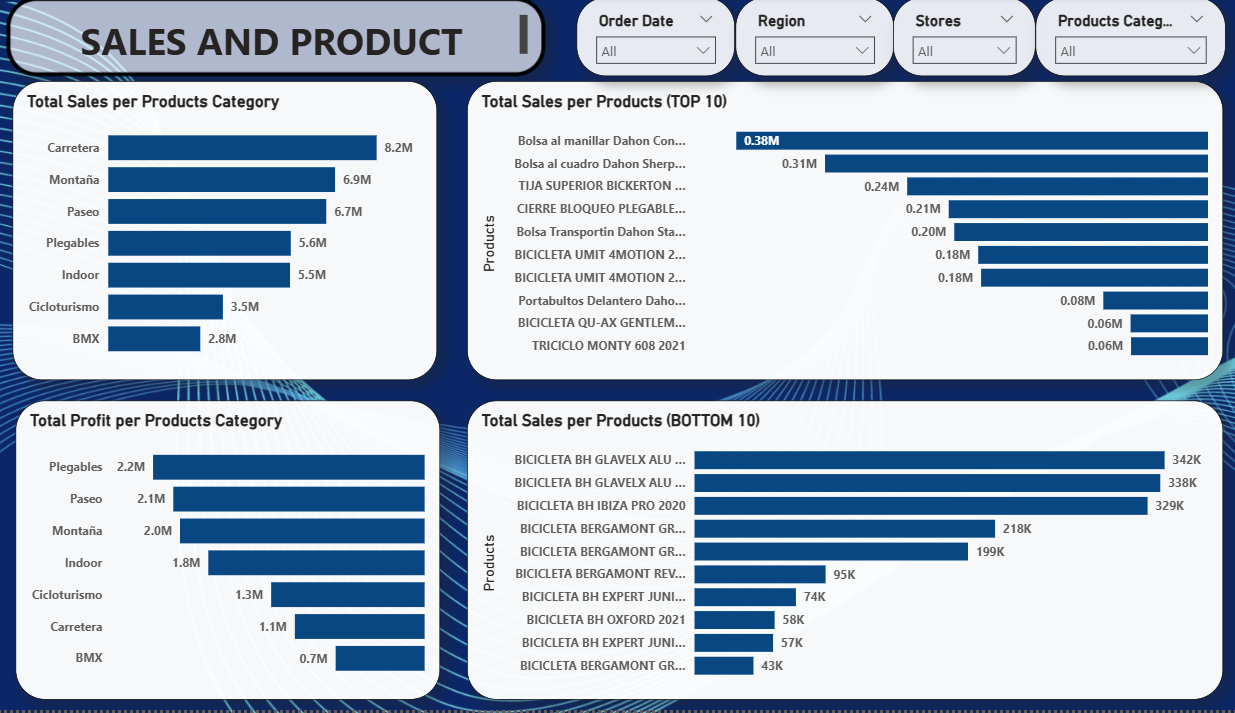

The page's visual inventory and layout, read from the dashboard file:
{"tool":"powerbi","page":{"name":"Sales & Product","canvas":[1280,720],"ordinal":1},"visuals":[{"type":"textbox","box":[16,0,544,80],"z":0},{"type":"barChart","title":"Total Sales per Products Category","fields":{"Category":["Products.Products Category"],"Y":["Sales._Total Sales"]},"box":[23.3,85,428.3,301.7],"z":1000},{"type":"barChart","title":"Total Profit per Products Category","fields":{"Category":["Products.Products Category"],"Y":["Sales._Total Profit"]},"box":[25,406.7,428.3,301.7],"z":2000},{"type":"barChart","title":"Total Sales per Products (TOP 10)","fields":{"Category":["Products.Products"],"Y":["Sales._Total Sales"]},"box":[481.7,85,763.3,301.7],"z":3000},{"type":"barChart","title":"Total Sales per Products (BOTTOM 10)","fields":{"Category":["Products.Products"],"Y":["Sales._Total Sales"]},"box":[481.7,406.7,763.3,301.7],"z":4000},{"type":"slicer","fields":{"Values":["Sales.Order Date"]},"box":[592,0,160,80],"z":5000},{"type":"slicer","fields":{"Values":["Locations.Region"]},"box":[752,0,160,80],"z":6000},{"type":"slicer","fields":{"Values":["Stores.Stores"]},"box":[912,0,144,80],"z":7000},{"type":"slicer","fields":{"Values":["Products.Products Category"]},"box":[1056,0,192,80],"z":8000}]}

Visuals, with their boxes in screenshot pixels (x1, y1, x2, y2), scaled from the page's 1280x720 canvas onto the 1235x713 screenshot:
textbox: left=15, top=0, right=540, bottom=79
"Total Sales per Products Category" barChart: left=22, top=84, right=436, bottom=383
"Total Profit per Products Category" barChart: left=24, top=403, right=437, bottom=702
"Total Sales per Products (TOP 10)" barChart: left=465, top=84, right=1201, bottom=383
"Total Sales per Products (BOTTOM 10)" barChart: left=465, top=403, right=1201, bottom=702
slicer - Sales.Order Date: left=571, top=0, right=726, bottom=79
slicer - Locations.Region: left=726, top=0, right=880, bottom=79
slicer - Stores.Stores: left=880, top=0, right=1019, bottom=79
slicer - Products.Products Category: left=1019, top=0, right=1204, bottom=79
